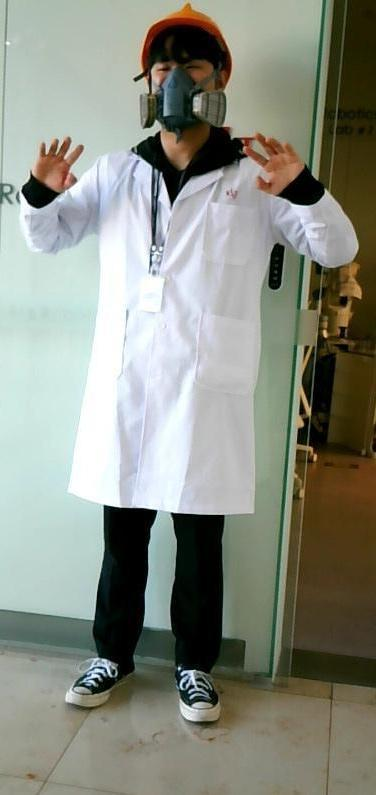lab_coat: (77, 140, 254, 513)
